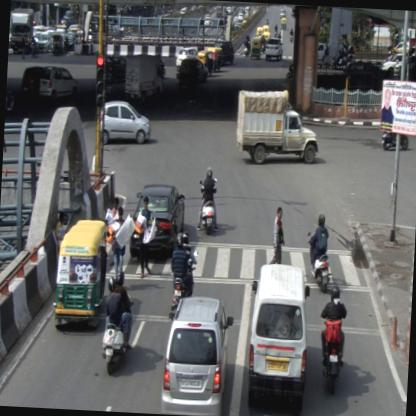car: (244, 266, 310, 416), (161, 294, 233, 415), (129, 184, 187, 258), (100, 99, 150, 145), (40, 66, 80, 100), (266, 36, 284, 61)
motorcycle: (102, 272, 136, 378), (318, 284, 348, 392), (309, 214, 332, 292), (171, 235, 197, 304), (198, 166, 220, 238)
truck: (234, 88, 320, 165), (126, 52, 164, 104), (8, 6, 33, 56)
